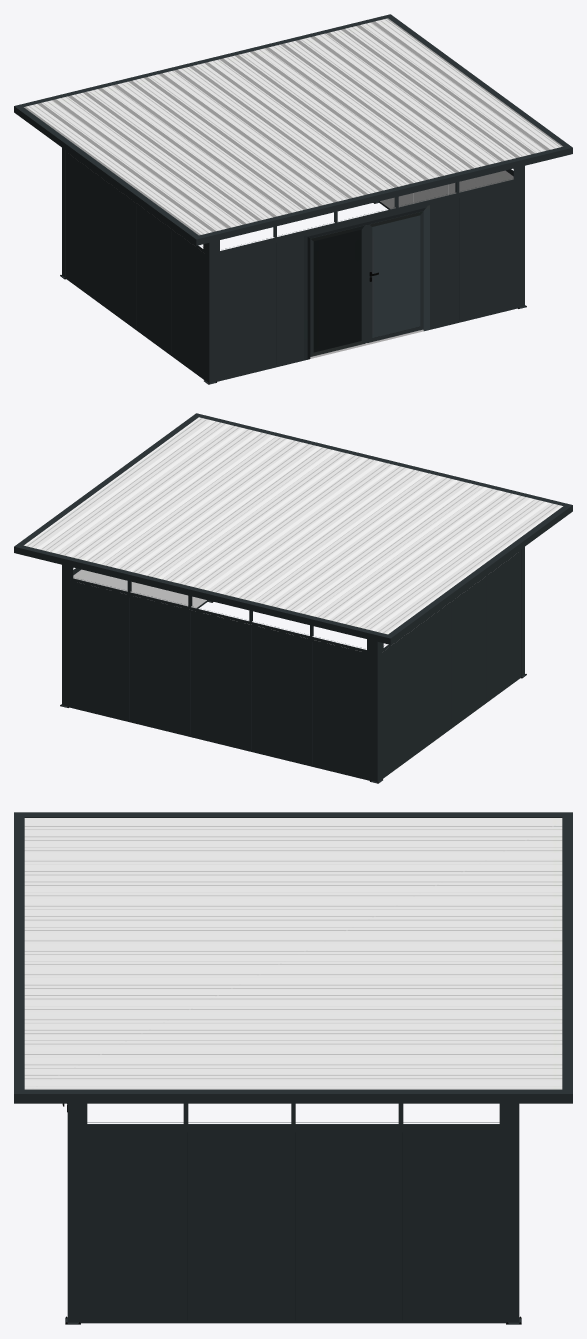
The picture shows the model from 3 angles, top to bottom: view 1: azimuth 30°, elevation 25°; view 2: azimuth 150°, elevation 25°; view 3: azimuth 270°, elevation 25°; orthographic projection. The views are drawn at different scales.
Parts seen in each view (by area): view 1: priximbattable_net_abris_de_jardin_640005_abri_de_jardin_mim, folha, folha_2, porta_avec_hublot; view 2: priximbattable_net_abris_de_jardin_640005_abri_de_jardin_mim; view 3: priximbattable_net_abris_de_jardin_640005_abri_de_jardin_mim.
Boxes of the visible parts, x1,y1,x2,y2 form: priximbattable_net_abris_de_jardin_640005_abri_de_jardin_mim: [14, 14, 572, 384]; folha: [310, 224, 368, 356]; folha_2: [366, 211, 423, 342]; porta_avec_hublot: [304, 205, 429, 360]; priximbattable_net_abris_de_jardin_640005_abri_de_jardin_mim: [14, 413, 572, 783]; priximbattable_net_abris_de_jardin_640005_abri_de_jardin_mim: [14, 812, 572, 1324].
Size of the model in its own units: 620 by 259 by 520.
1 material, 1 textured.
